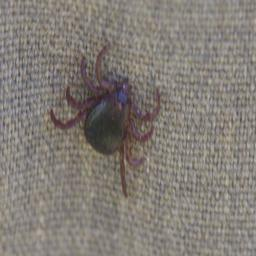Rhipicephalus sanguineus: (49, 46, 162, 199)
